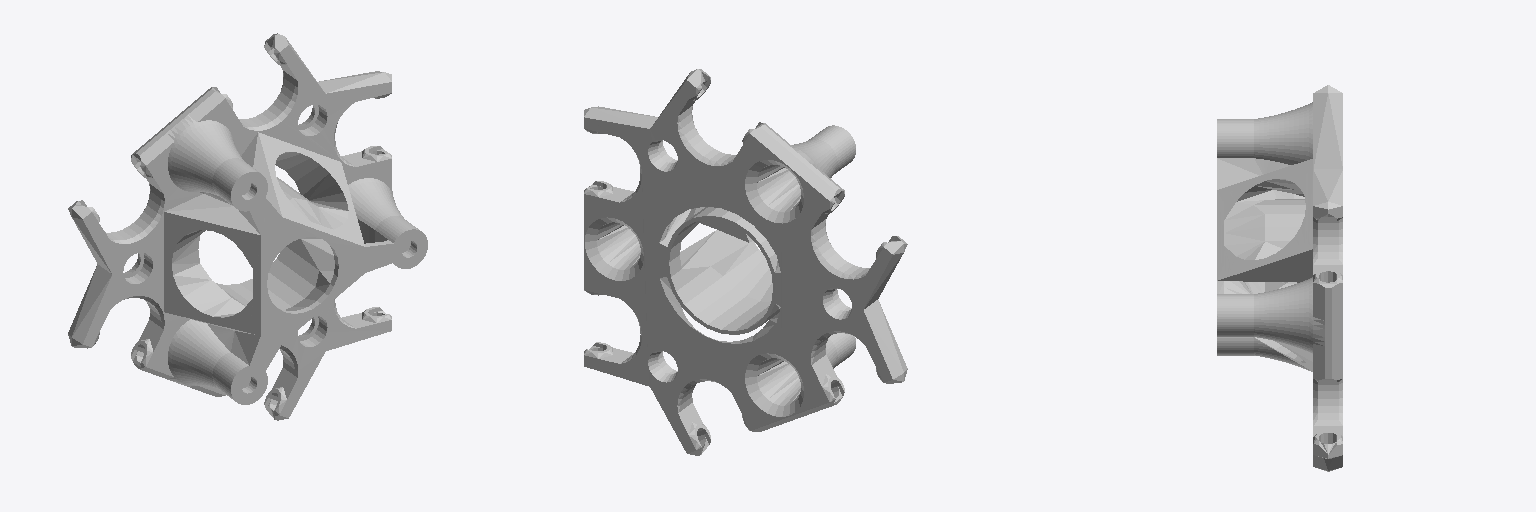
File: Carriage v6-1.obj
3 views of the same model, side by side, from view 1: azimuth 30°, elevation 25°; view 2: azimuth 150°, elevation 25°; view 3: azimuth 270°, elevation 25° (orthographic).
Parts seen in each view (by area): view 1: Mesh1 Model; view 2: Mesh1 Model; view 3: Mesh1 Model.
Boxes of the visible parts, box(x1,y1,x2,y2) form: Mesh1 Model: box(68, 33, 427, 420); Mesh1 Model: box(584, 69, 907, 455); Mesh1 Model: box(1217, 85, 1342, 471).
Bounding box in the file's own units: 86.26 × 99.6 × 29.45.